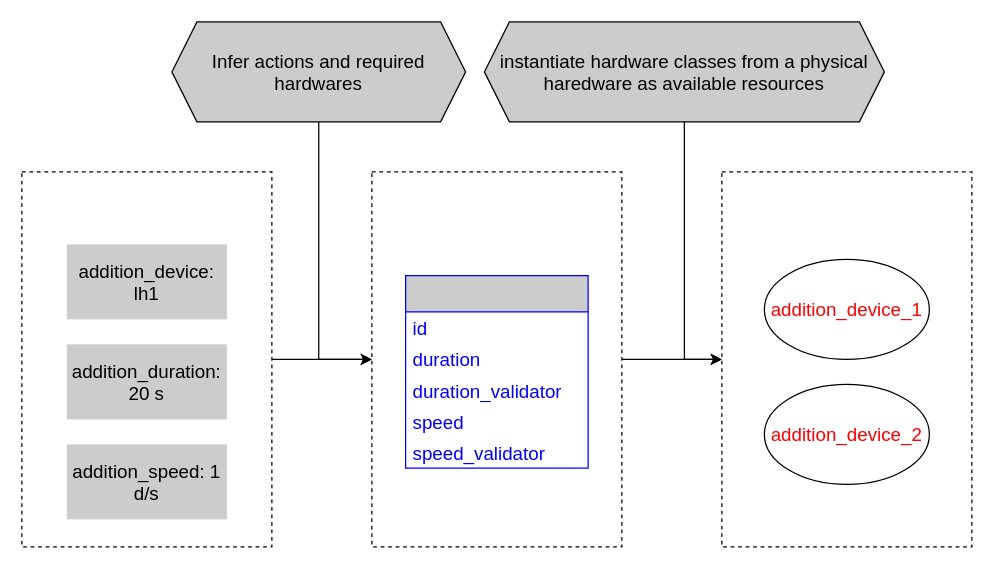
This 994x569 diagram has some shape labels left out. Here are the shapes that lost their labels. From the top down, the box of each, then its label:
(21, 171, 272, 547): ord.ReactionInput: addition parameters
(404, 274, 588, 468): addition_device
(371, 171, 622, 547): intermediate: hardware classes
(721, 171, 972, 547): actual plan: valid resources for this action
